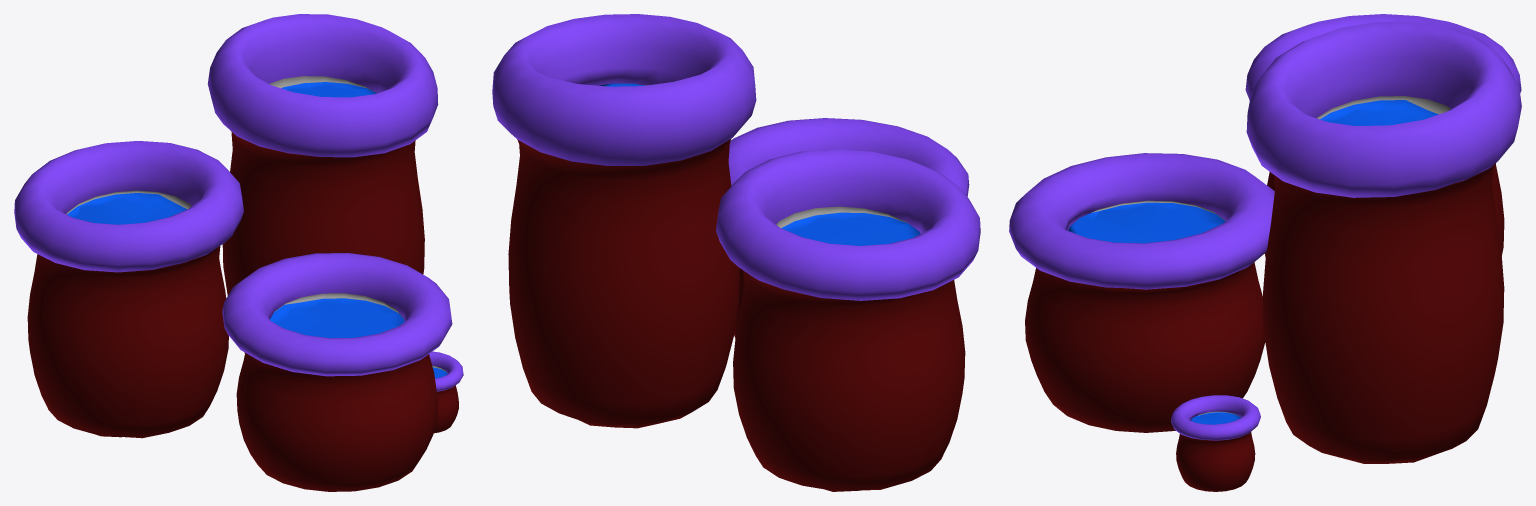
The model's file is coral3.FBX.
3 views of the same model, side by side, from view 1: azimuth 30°, elevation 25°; view 2: azimuth 150°, elevation 25°; view 3: azimuth 270°, elevation 25° (orthographic). The views are drawn at different scales.
Visible parts, largest first — view 1: Cylinder005, Cylinder006, Cylinder007, Cylinder008; view 2: Cylinder006, Cylinder005, Cylinder007; view 3: Cylinder006, Cylinder007, Cylinder008, Cylinder005.
Part boxes in pixels (x1,y1,x2,y2): Cylinder005: (14, 141, 243, 438); Cylinder006: (207, 14, 438, 353); Cylinder007: (222, 253, 452, 491); Cylinder008: (429, 351, 463, 433); Cylinder006: (492, 14, 756, 428); Cylinder005: (716, 149, 980, 491); Cylinder007: (728, 118, 969, 337); Cylinder006: (1246, 21, 1521, 463); Cylinder007: (1009, 153, 1274, 432); Cylinder008: (1171, 395, 1260, 491); Cylinder005: (1245, 14, 1521, 257).
Size of the model in its own units: 4.09 by 3.32 by 3.86.
